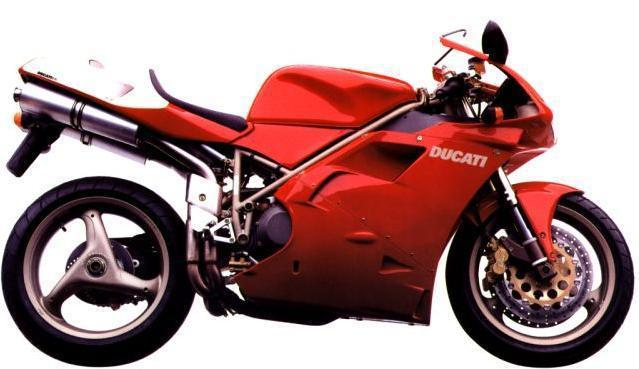motorcycle: (1, 11, 639, 369)
